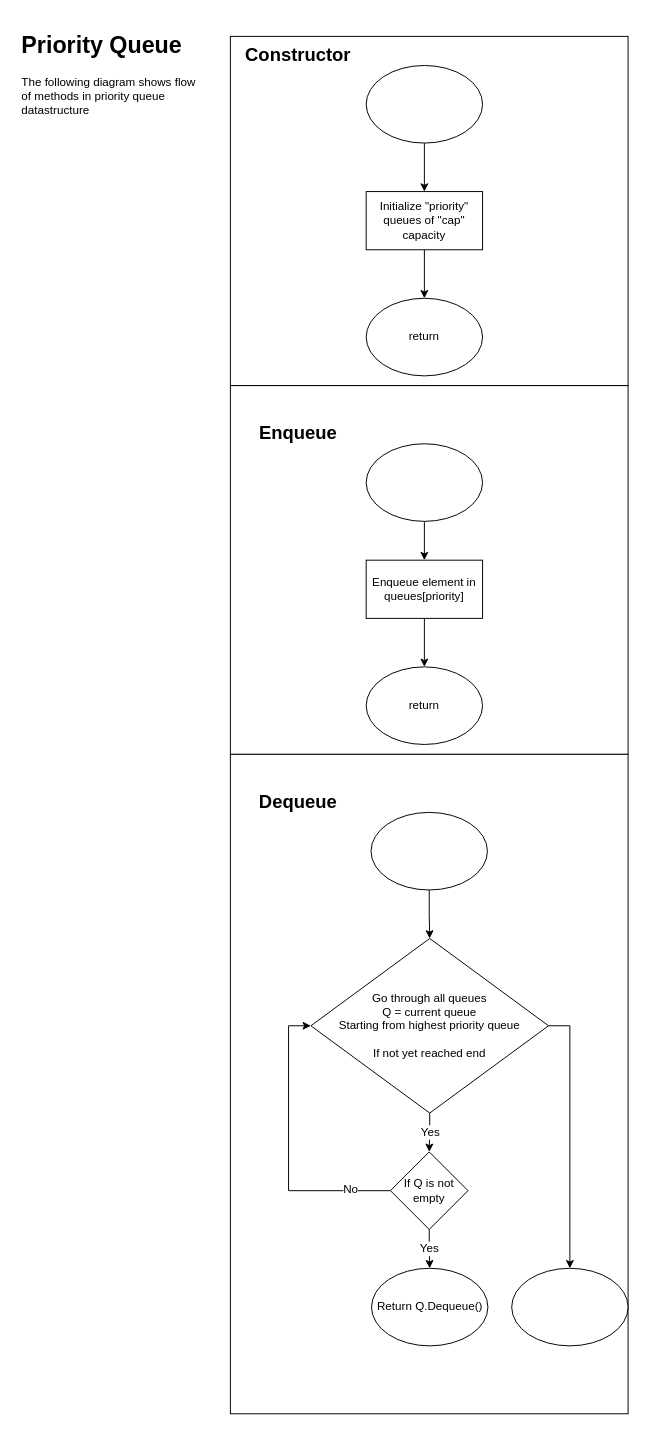
The diagram is 645 pixels wide and 1431 high, and some of its shapes have lost their labels. The shapes that lost their labels are listed below. From the top down, each one's centre as x and y in pixels, then its label:
At point (424, 104): "Start (int cap, int priority)".
At point (424, 482): "Start (T val, int priority)".
At point (428, 850): "Start".
At point (569, 1306): "Throw exception: All queues empty".
